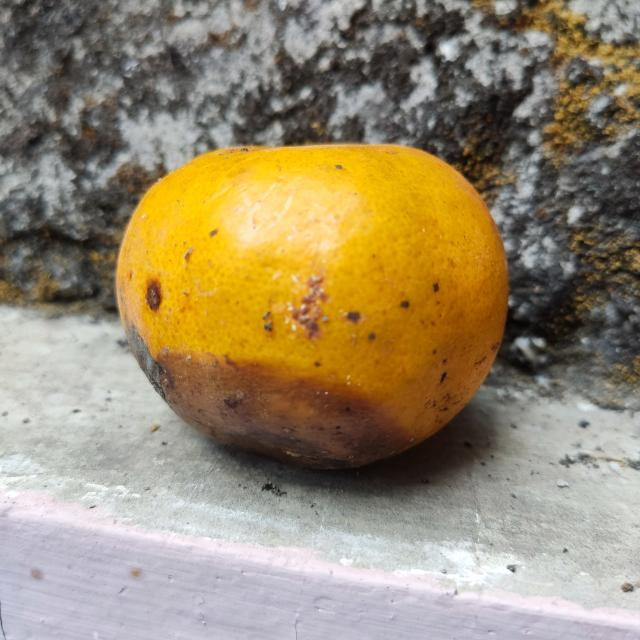orange: (113, 144, 505, 467)
